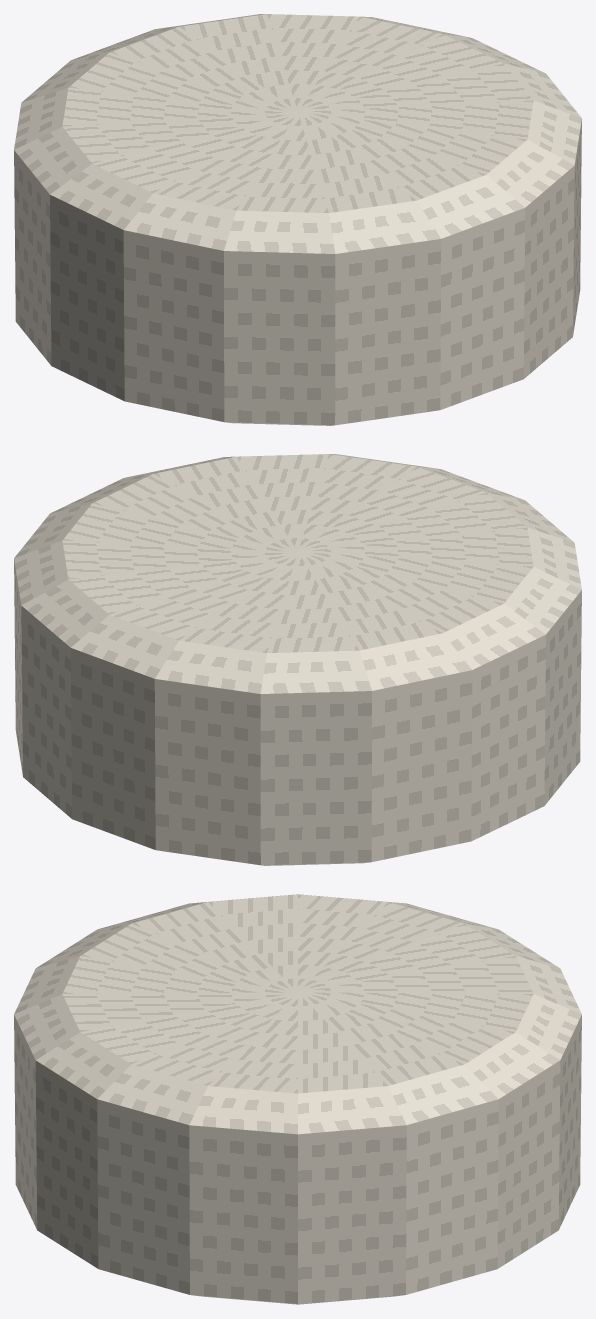
Rendered from kufi.glb.
3 renders of one model, top to bottom at view 1: azimuth 30°, elevation 25°; view 2: azimuth 150°, elevation 25°; view 3: azimuth 270°, elevation 25°, orthographic.
Parts seen in each view (by area): view 1: block_shaped hat crown and brim; view 2: block_shaped hat crown and brim; view 3: block_shaped hat crown and brim.
Part boxes in pixels (left/top/right/bottom): block_shaped hat crown and brim: left=14, top=14, right=581, bottom=425; block_shaped hat crown and brim: left=14, top=454, right=581, bottom=865; block_shaped hat crown and brim: left=14, top=894, right=581, bottom=1304.
Size of the model in its own units: 0.2 by 0.0801 by 0.2.
Materials: 1 (1 with a texture image).
